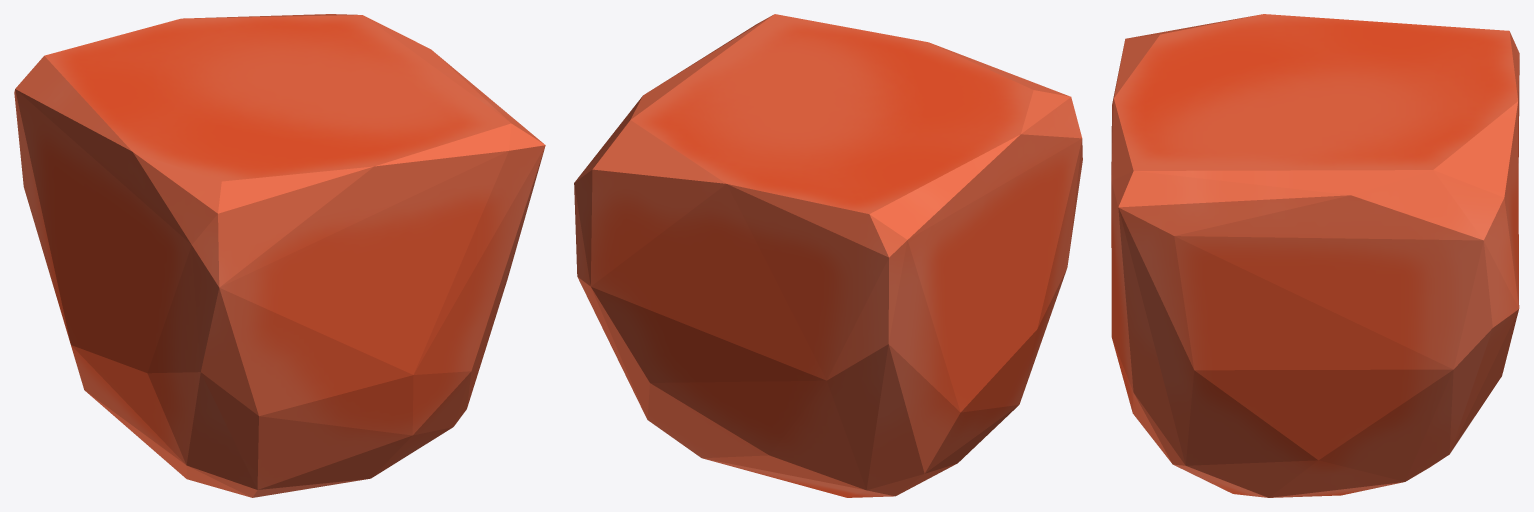
File: Platform_1_1.fbx
3 renders of one model, left to right at view 1: azimuth 30°, elevation 25°; view 2: azimuth 150°, elevation 25°; view 3: azimuth 270°, elevation 25°, orthographic. The views are drawn at different scales.
Parts seen in each view (by area): view 1: Cube.027; view 2: Cube.027; view 3: Cube.027.
Boxes of the visible parts, x1,y1,x2,y2 form: Cube.027: [14, 14, 545, 497]; Cube.027: [574, 14, 1082, 497]; Cube.027: [1111, 14, 1519, 497].
Bounding box in the file's own units: 99.94 × 99.16 × 99.71.
